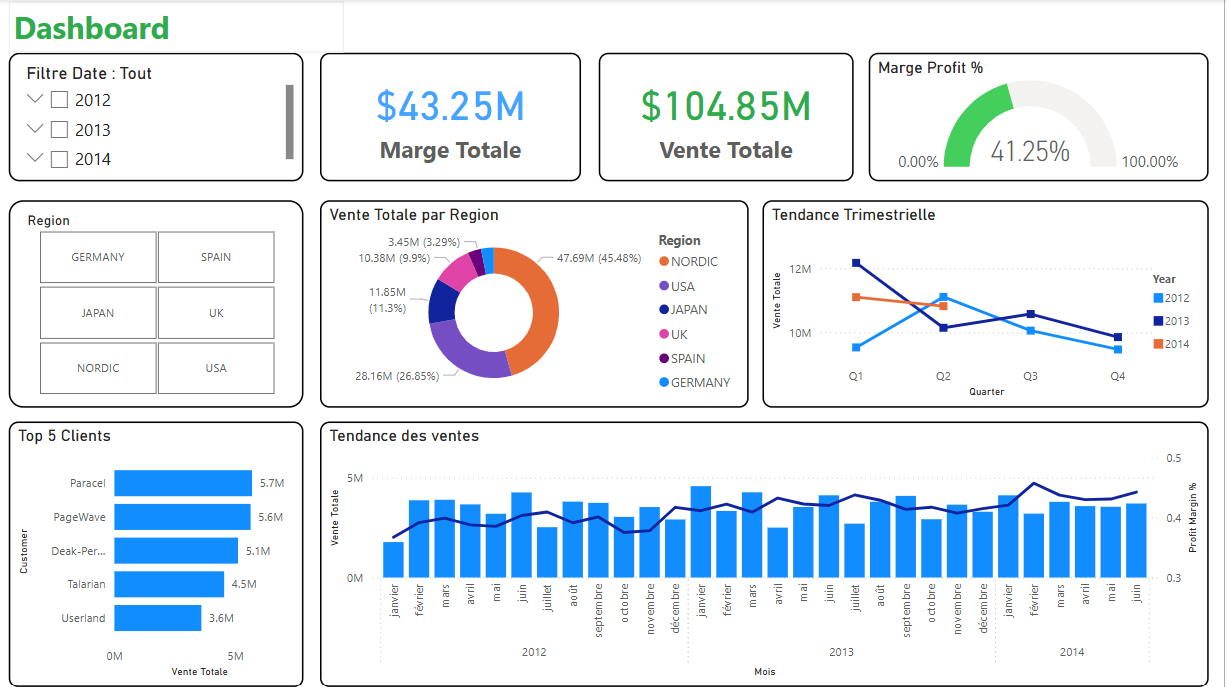

Layout of this report page (visuals, bound fields, positions):
{"tool":"powerbi","page":{"name":"Dashboard","canvas":[1280,720],"ordinal":0},"visuals":[{"type":"slicer","fields":{"Values":["SalesOrder.Year Hiérarchie Custom.Year","SalesOrder.Year Hiérarchie Custom.Quarter","SalesOrder.Year Hiérarchie Custom.Month","SalesOrder.Year Hiérarchie Custom.Week"]},"box":[9.1,56.2,308.3,134.6],"z":0},{"type":"slicer","fields":{"Values":["Regions.Region"]},"box":[9.1,210.3,308.3,216.9],"z":1000},{"type":"donutChart","fields":{"Category":["Regions.Region"],"Y":["SalesOrder.Ventes Totales"]},"box":[334.4,210.3,448.1,216.9],"z":2000},{"type":"card","fields":{"Values":["SalesOrder.Marge Totale"]},"box":[334.4,56.2,273,134.6],"z":3000},{"type":"card","fields":{"Values":["SalesOrder.Ventes Totales"]},"box":[625.8,56.2,266.5,134.6],"z":4000},{"type":"gauge","fields":{"Y":["SalesOrder.Profit Margin %"]},"box":[907.9,56.2,355.3,134.6],"z":5000},{"type":"barChart","title":"Top 5 Clients","fields":{"Category":["Customers.Customer"],"Y":["SalesOrder.Ventes Totales"]},"box":[9.1,441.6,308.3,278.3],"z":6000},{"type":"lineChart","title":"Tendance Trimestrielle","fields":{"Category":["SalesOrder.Year Hiérarchie Custom.Quarter"],"Y":["SalesOrder.Ventes Totales"],"Series":["SalesOrder.Year"]},"box":[796.9,210.3,466.4,216.9],"z":7000},{"type":"lineStackedColumnComboChart","title":"Tendance des ventes","fields":{"Y2":["SalesOrder.Profit Margin %"],"Y":["SalesOrder.Ventes Totales"],"Category":["SalesOrder.Date.Variation.Hiérarchie de dates.Année","SalesOrder.Date.Variation.Hiérarchie de dates.Mois"]},"box":[334.4,441.6,928.8,278.3],"z":8000},{"type":"textbox","box":[9.1,2.6,350.1,53.6],"z":9000}]}

Visuals, with their boxes in screenshot pixels (x1, y1, x2, y2), scaled from the page's 1280x720 canvas onto the 1227x687 screenshot:
slicer - SalesOrder.Year Hiérarchie Custom.Year x SalesOrder.Year Hiérarchie Custom.Quarter: 9/54/304/182
slicer - Regions.Region: 9/201/304/408
donutChart - Regions.Region x SalesOrder.Ventes Totales: 321/201/750/408
card - SalesOrder.Marge Totale: 321/54/582/182
card - SalesOrder.Ventes Totales: 600/54/855/182
gauge - SalesOrder.Profit Margin %: 870/54/1211/182
"Top 5 Clients" barChart: 9/421/304/686
"Tendance Trimestrielle" lineChart: 764/201/1211/408
"Tendance des ventes" lineStackedColumnComboChart: 321/421/1211/686
textbox: 9/2/344/54
